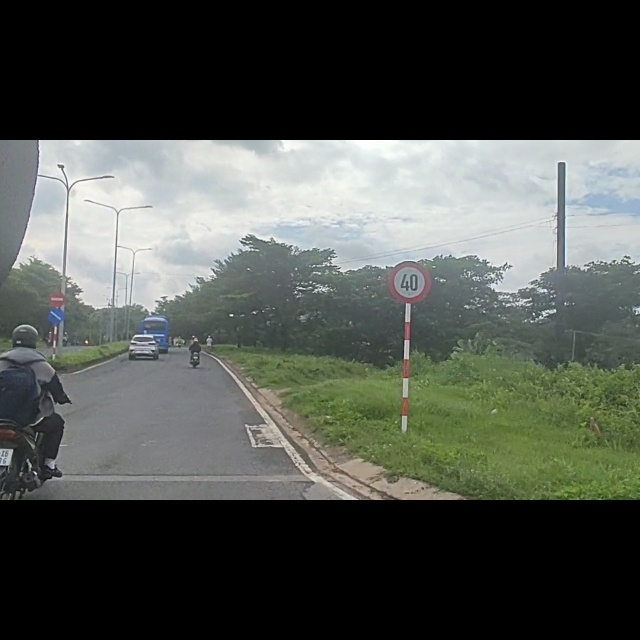bien_hieu_lenh: (388, 215, 433, 292), (48, 296, 66, 328), (49, 265, 65, 299)
